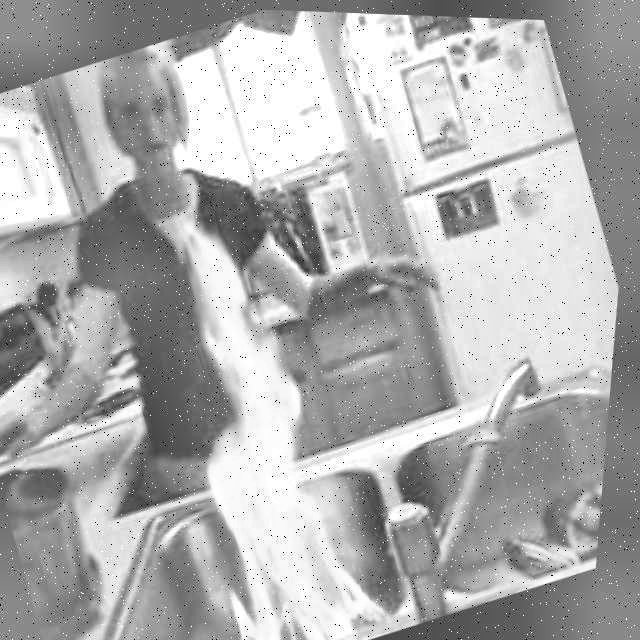Fire: (116, 204, 418, 640)
